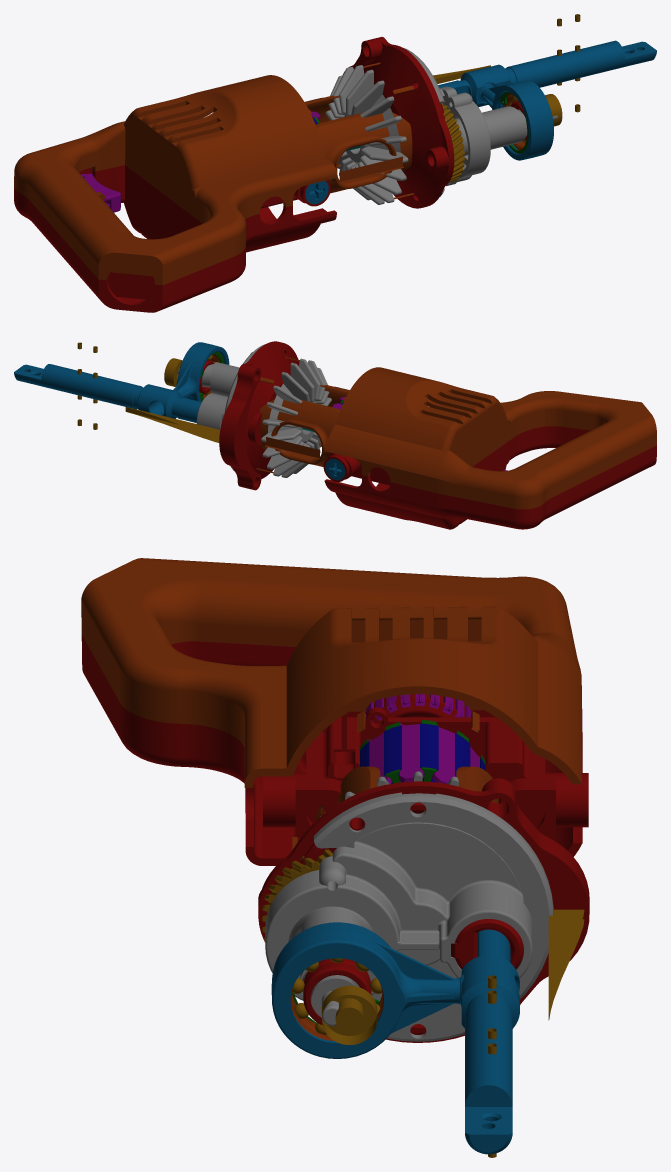
File: ReciprocatingSaw.dae
3 renders of one model, top to bottom at view 1: azimuth 30°, elevation 25°; view 2: azimuth 150°, elevation 25°; view 3: azimuth 270°, elevation 25°, orthographic. The views are drawn at different scales.
Visible parts, largest first — view 1: body_4, body, body_58, body_56, body_141, body_14, body_149, body_139, body_147, body_6, body_12, body_143 (+4 smaller); view 2: body_4, body, body_58, body_141, body_56, body_14, body_149, body_139, body_6, body_147, body_137, body_12 (+3 smaller); view 3: body_4, body_139, body_22, body, body_149, body_141, body_58, body_82, body_147, body_137, body_145, body_135 (+7 smaller).
Boxes of the visible parts, <box> form: body_4: <box>14,75,336,285</box>; body: <box>14,165,336,312</box>; body_58: <box>343,37,454,208</box>; body_56: <box>325,65,408,204</box>; body_141: <box>438,40,656,107</box>; body_14: <box>306,97,412,193</box>; body_149: <box>479,80,553,160</box>; body_139: <box>404,48,490,196</box>; body_147: <box>456,106,557,156</box>; body_6: <box>106,100,223,279</box>; body_12: <box>304,62,413,199</box>; body_143: <box>441,103,464,182</box>; body_4: <box>324,367,656,509</box>; body: <box>324,426,656,529</box>; body_58: <box>219,341,299,490</box>; body_141: <box>14,364,201,422</box>; body_56: <box>261,358,331,477</box>; body_14: <box>259,386,347,466</box>; body_149: <box>173,342,229,401</box>; body_139: <box>196,344,264,470</box>; body_6: <box>419,389,492,426</box>; body_147: <box>177,362,239,396</box>; body_137: <box>125,407,220,442</box>; body_12: <box>256,356,349,473</box>; body_4: <box>81,558,581,787</box>; body_139: <box>265,792,553,1041</box>; body_22: <box>263,707,588,837</box>; body: <box>81,635,582,865</box>; body_149: <box>271,922,464,1058</box>; body_141: <box>461,929,519,1154</box>; body_58: <box>258,778,589,1042</box>; body_82: <box>359,723,485,783</box>; body_147: <box>288,906,373,1025</box>; body_137: <box>548,909,584,1020</box>; body_145: <box>451,919,523,969</box>; body_135: <box>322,985,377,1044</box>.
Bounding box in the file's own units: 375 × 83.92 × 149.
